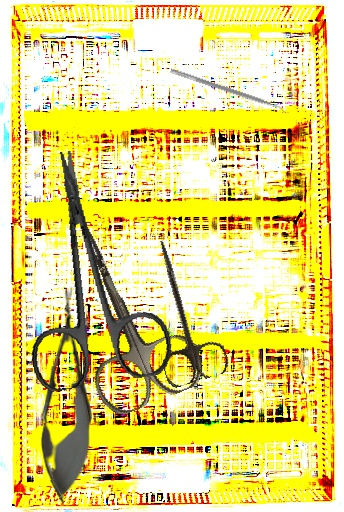Iris Scissors: (0, 139, 177, 395), (34, 197, 210, 422), (127, 232, 232, 390)
Micro Scissor: (38, 285, 94, 504)
Spatula Surgical: (168, 68, 289, 116)
